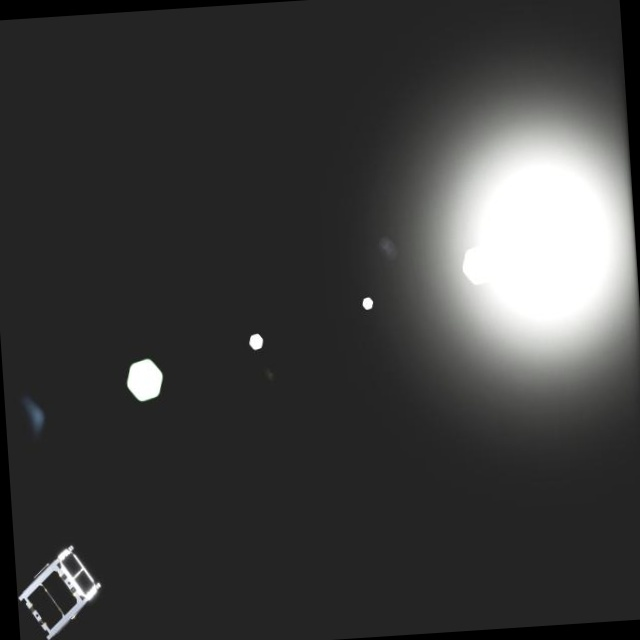medium_debris: (15, 544, 110, 640)
